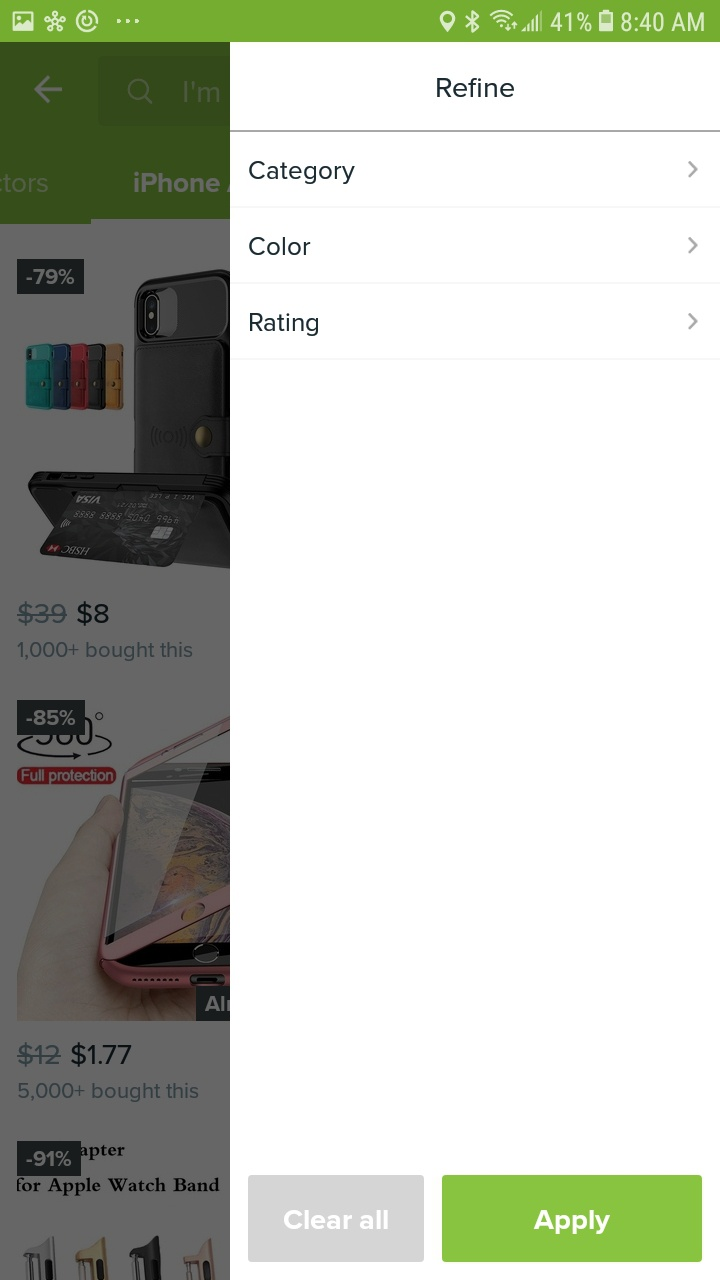Drawer: (230, 43, 720, 1280)
Icon: (687, 161, 698, 179), (687, 313, 698, 331), (688, 238, 699, 255)
Text: (249, 161, 356, 185), (250, 313, 319, 337), (437, 79, 515, 99), (249, 237, 311, 256)
TextButton: (442, 1174, 702, 1262), (249, 1174, 425, 1262)
UpperTaskBar: (1, 1, 720, 43)
